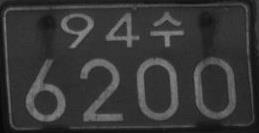0: (193, 54, 238, 120), (136, 56, 179, 121)
2: (79, 56, 124, 123)
4: (105, 11, 141, 48)
6: (24, 57, 66, 122)
9: (59, 11, 94, 48)
수: (150, 11, 185, 48)
